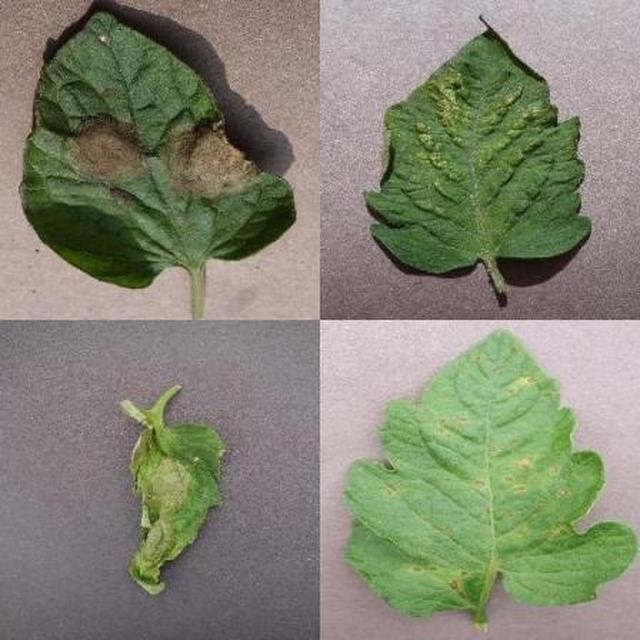Late Blight Leaf: (142, 210, 640, 640)
